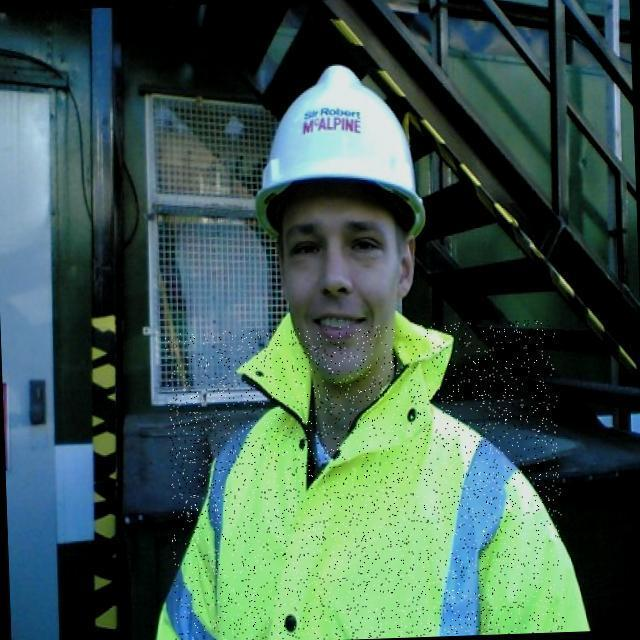helmet: (245, 53, 437, 245)
vest: (164, 319, 565, 640)
